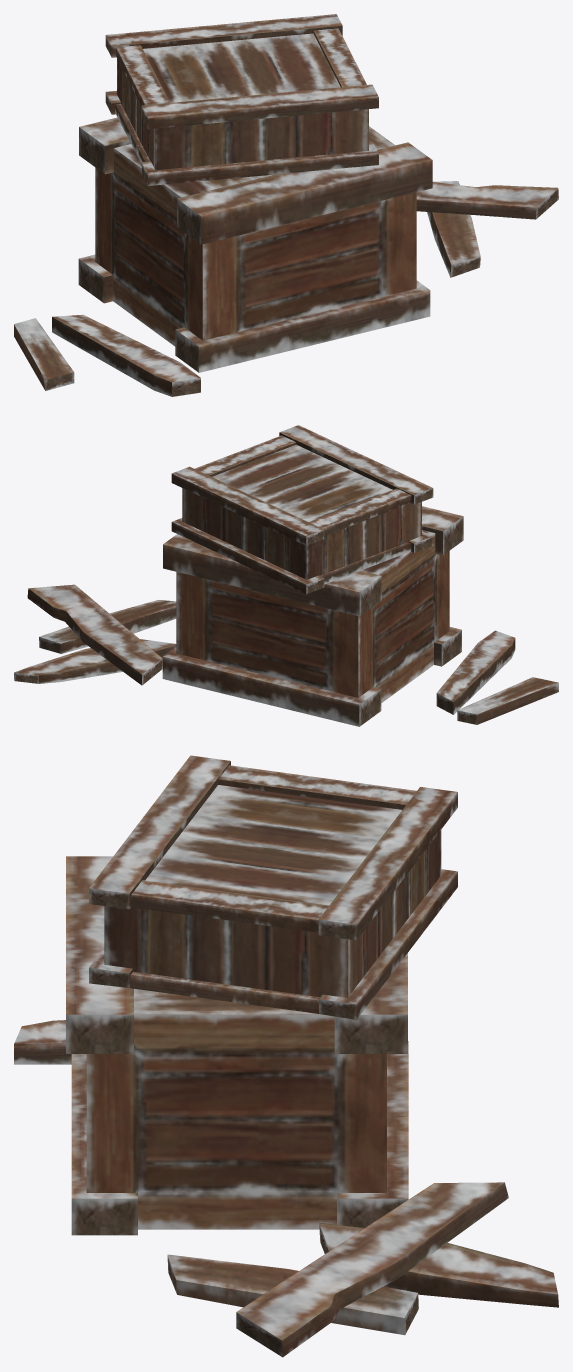
The model's file is SV_AFT_snow_xiangzi1_0.FBX.
3 views of the same model, one above another, from view 1: azimuth 30°, elevation 25°; view 2: azimuth 150°, elevation 25°; view 3: azimuth 270°, elevation 25° (orthographic). The views are drawn at different scales.
Parts seen in each view (by area): view 1: SV_AFT_snow_xiangzi1_0; view 2: SV_AFT_snow_xiangzi1_0; view 3: SV_AFT_snow_xiangzi1_0.
Part boxes in pixels (<box>): SV_AFT_snow_xiangzi1_0: <box>14,14,558,396</box>; SV_AFT_snow_xiangzi1_0: <box>14,425,558,726</box>; SV_AFT_snow_xiangzi1_0: <box>14,755,558,1357</box>.
Size of the model in its own units: 3.52 by 1.33 by 2.09.
